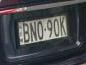0: (37, 20, 44, 40), (53, 18, 60, 37)
9: (46, 19, 53, 38)
B: (23, 22, 30, 44)
K: (59, 16, 66, 36)
N: (30, 21, 37, 41)
